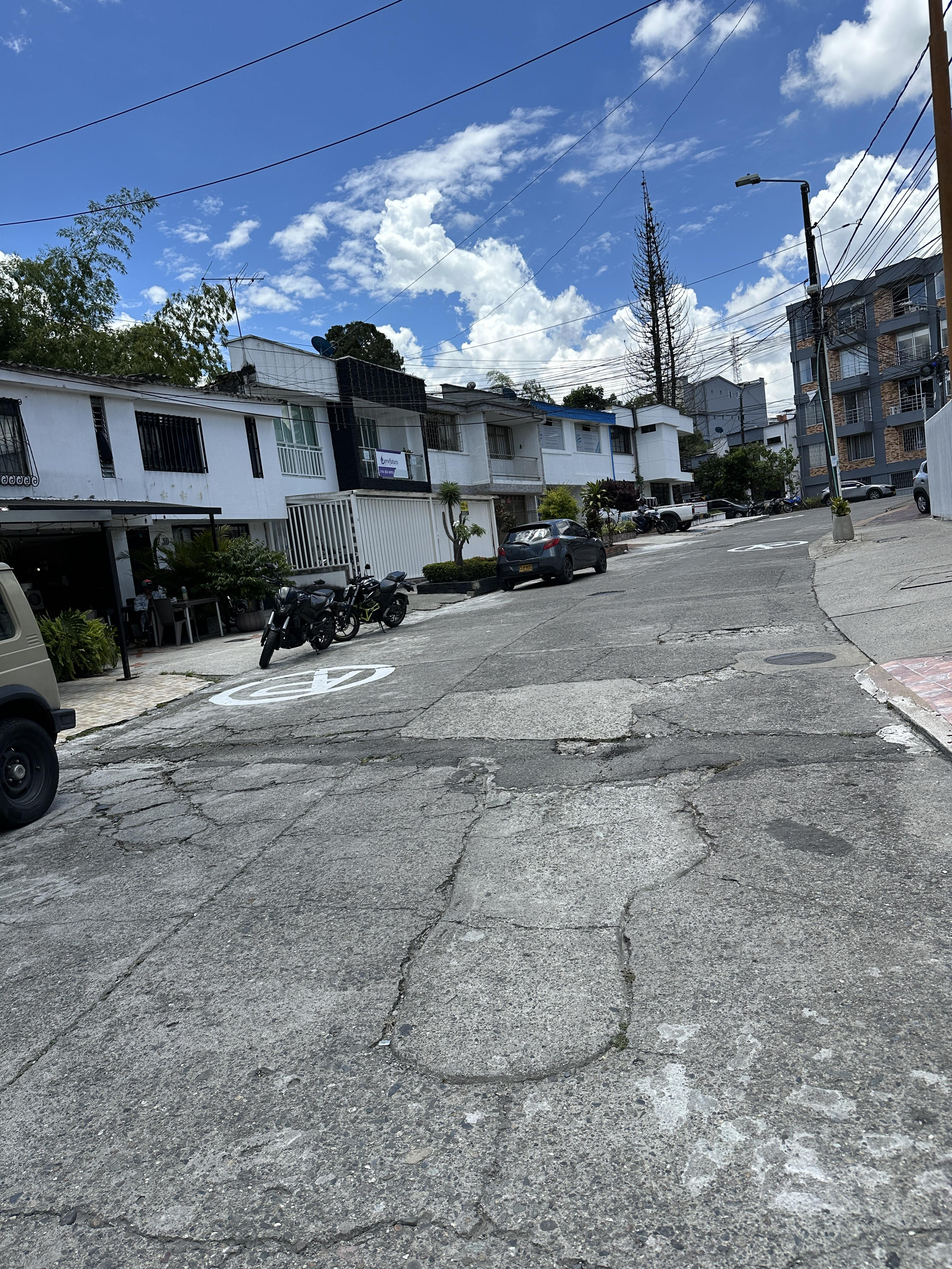bache: (113, 754, 201, 794), (656, 760, 744, 798), (555, 735, 626, 757), (362, 752, 403, 763)
grieta: (368, 773, 744, 1085), (16, 762, 208, 856), (81, 716, 416, 755), (205, 695, 446, 740), (628, 706, 876, 740), (167, 763, 284, 826), (629, 663, 738, 692), (657, 626, 794, 644)
registro: (765, 651, 835, 665), (591, 591, 625, 596)
